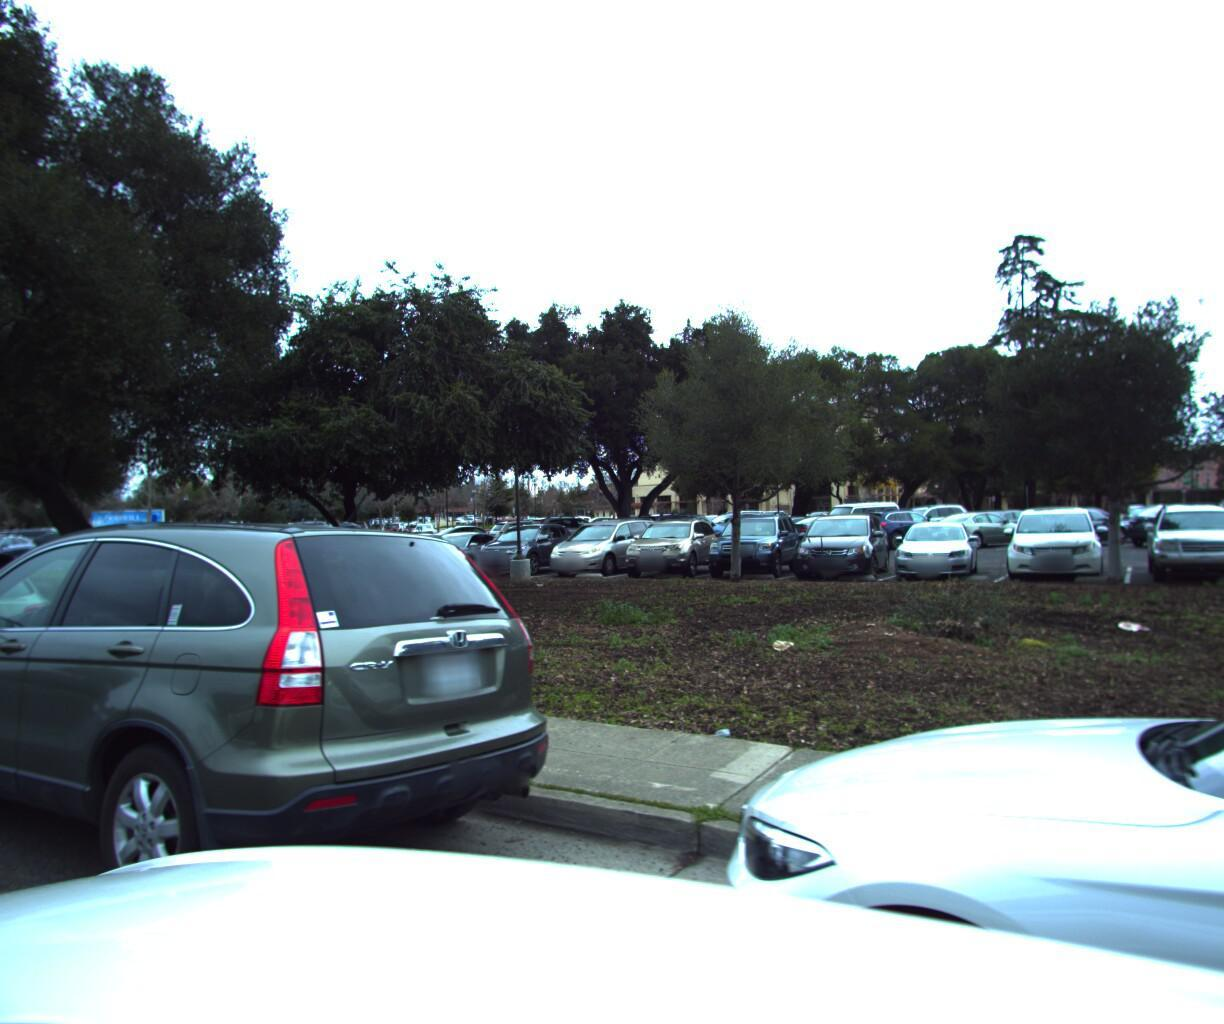car: (0, 496, 587, 1004), (608, 557, 1224, 1024), (0, 513, 100, 811)
